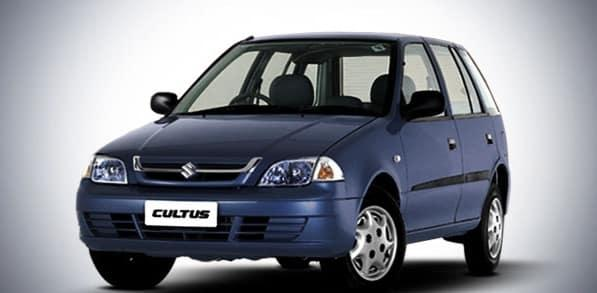Hatchback: (67, 13, 527, 293)
